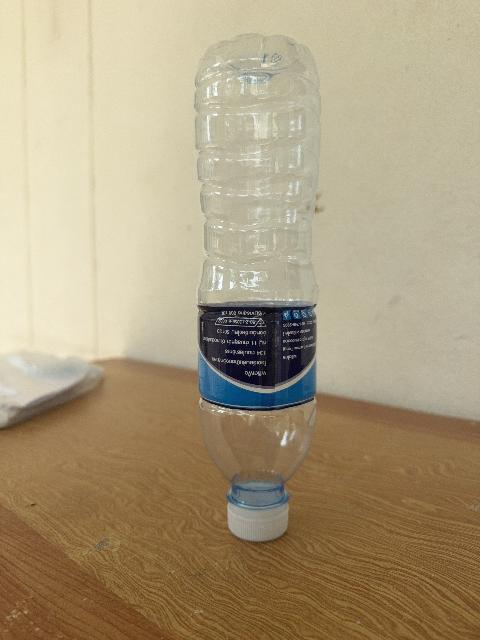bottle: (196, 34, 320, 540)
